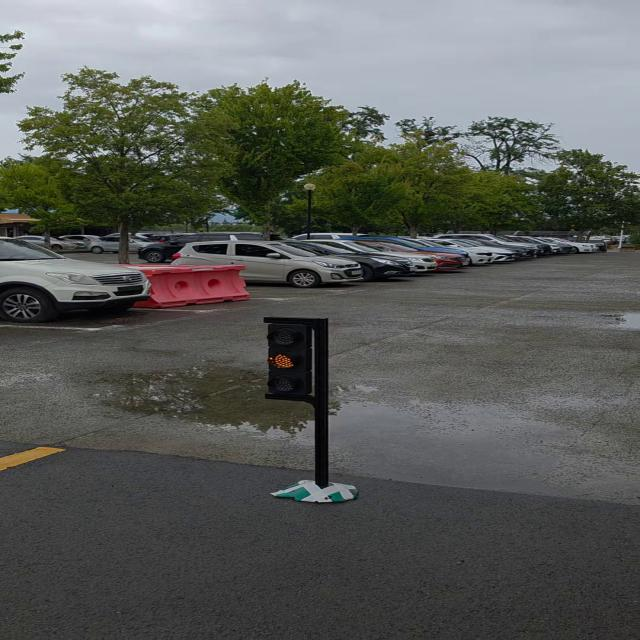yellow: (261, 319, 320, 400)
